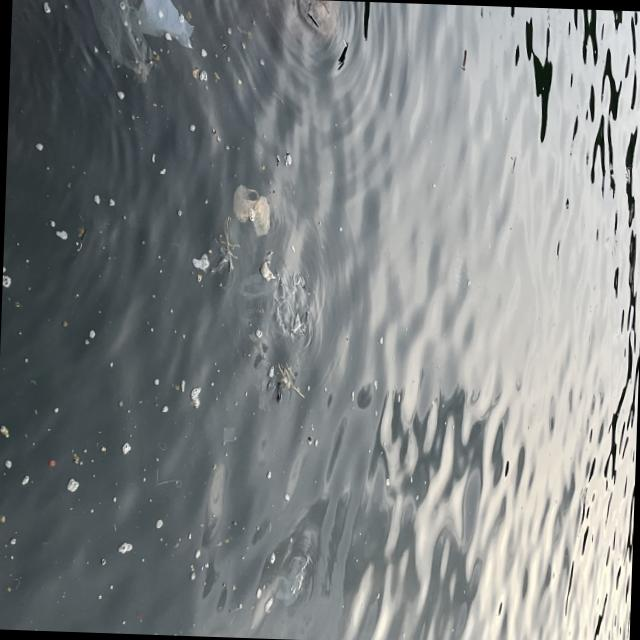plastic bag: (224, 187, 276, 238)
